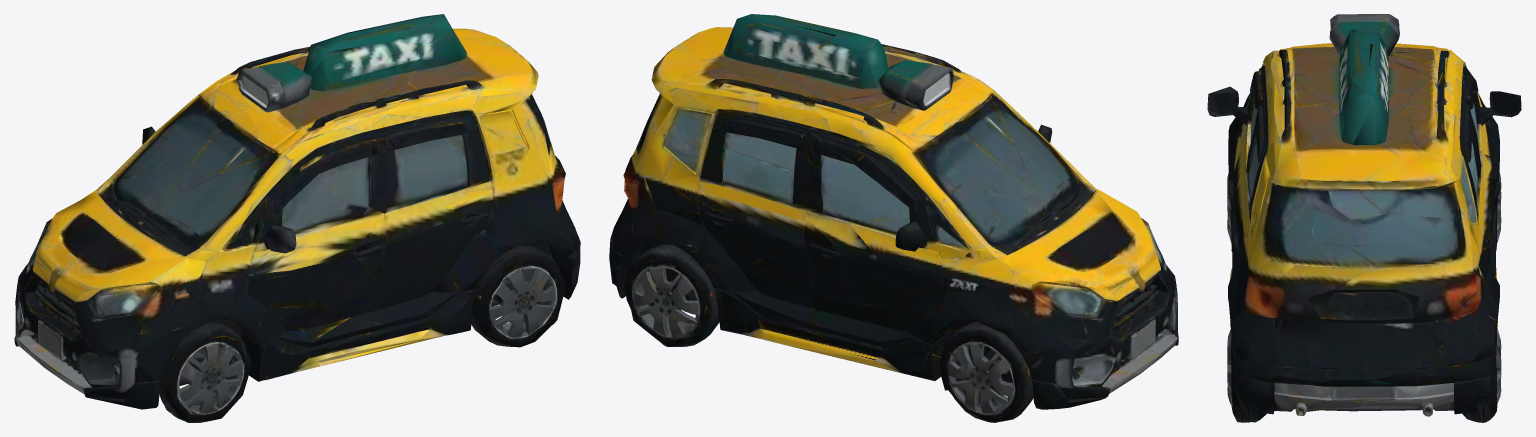
File: mx_car_taxi.glb
The picture shows the model from 3 angles, left to right: view 1: azimuth 30°, elevation 25°; view 2: azimuth 150°, elevation 25°; view 3: azimuth 270°, elevation 25°; orthographic projection. The views are drawn at different scales.
Size of the model in its own units: 1.9 by 1.08 by 0.9672.
Materials: 1 (1 with a texture image).
